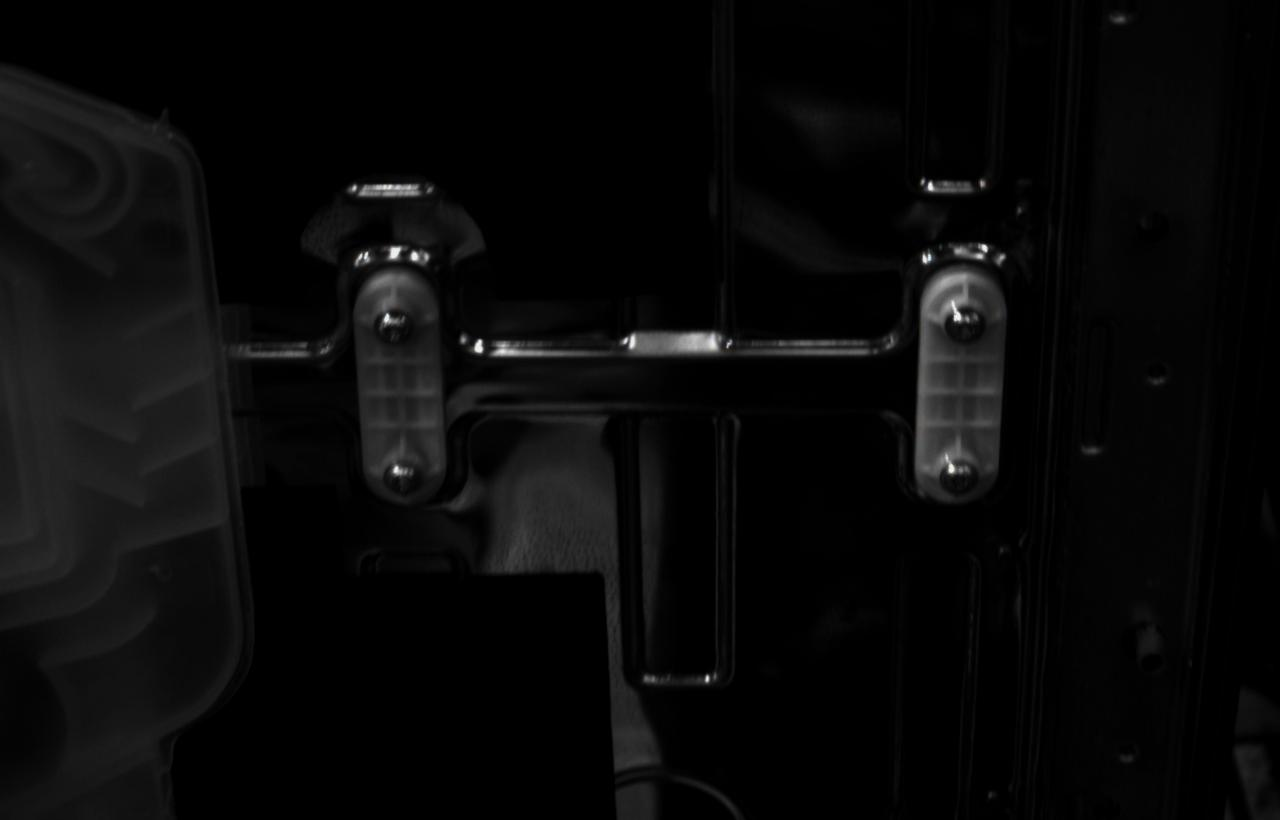vida-ok: (945, 307, 986, 345), (940, 459, 979, 497), (383, 461, 423, 496), (374, 310, 412, 344)
